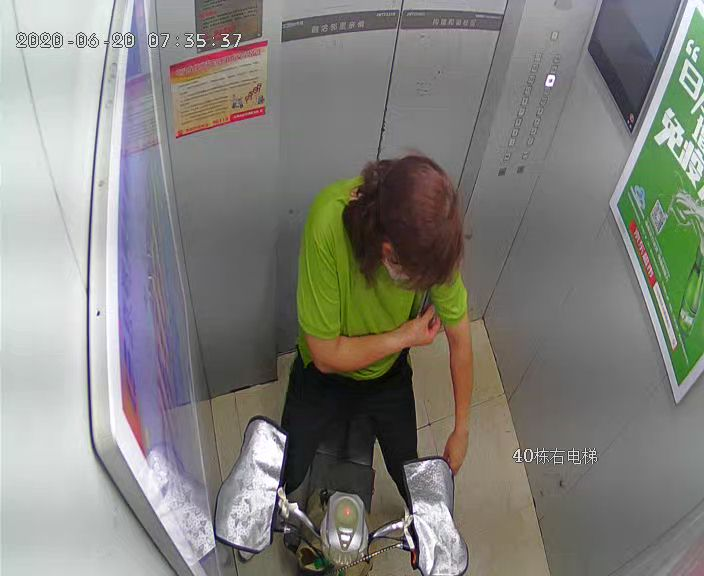Electric-bicycle: (220, 381, 462, 576)
